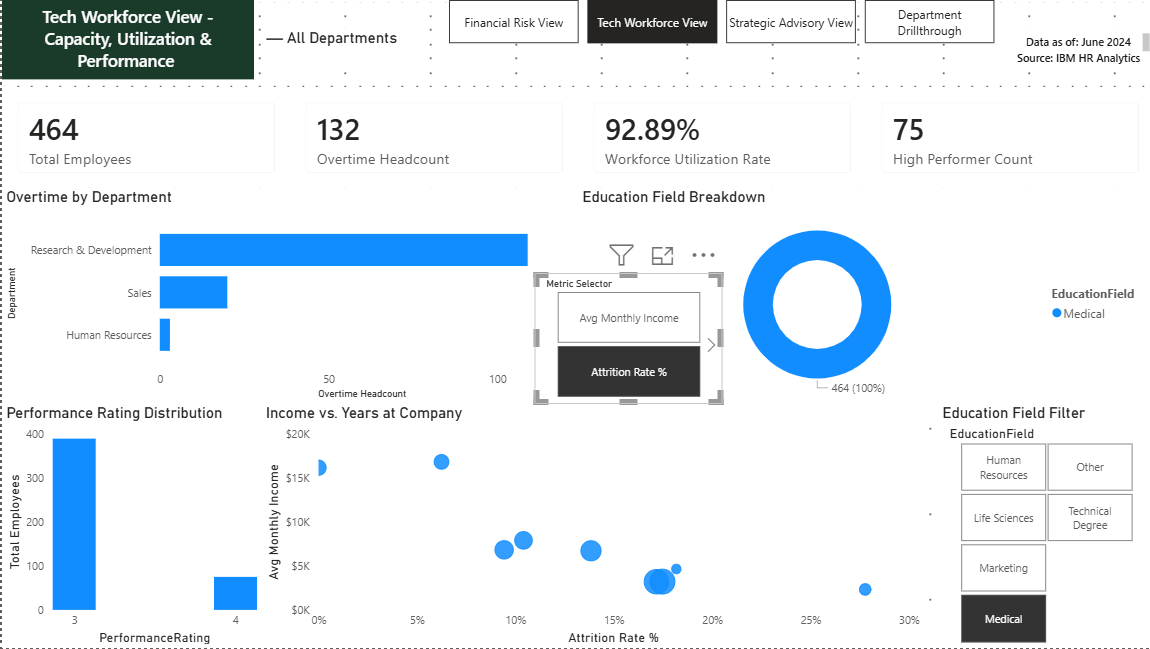

The dashboard page shown, as its layout file describes it:
{"tool":"powerbi","page":{"name":"Tech Workforce View","canvas":[1280,720],"ordinal":1},"visuals":[{"type":"shape","box":[0,0,280,88],"z":0},{"type":"textbox","box":[0,0,280,88],"z":1000},{"type":"cardVisual","fields":{"Data":["_Measures.Total Employees"]},"box":[0,96,320,112],"z":2000},{"type":"cardVisual","fields":{"Data":["_Measures.Overtime Headcount"]},"box":[320,96,320,112],"z":3000},{"type":"cardVisual","fields":{"Data":["_Measures.Workforce Utilization Rate"]},"box":[640,96,320,112],"z":4000},{"type":"cardVisual","fields":{"Data":["_Measures.High Performer Count"]},"box":[960,96,320,112],"z":5000},{"type":"barChart","title":"Overtime by Department","fields":{"Category":["DimDepartment.Department"],"Y":["_Measures.Overtime Headcount"]},"box":[0,208,640,240],"z":6000},{"type":"donutChart","title":"Education Field Breakdown","fields":{"Category":["DimEducationField.EducationField"],"Y":["_Measures.Total Employees"]},"box":[640,208,640,240],"z":7000},{"type":"clusteredColumnChart","title":"Performance Rating Distribution","fields":{"Y":["_Measures.Total Employees"],"Category":["FactEmployeeMetrics.PerformanceRating"]},"box":[0,448,288,272],"z":8000},{"type":"scatterChart","title":"Income vs. Years at Company","fields":{"X":["_Measures.Satisfaction Index"],"Y":["_Measures.Avg Monthly Income"],"Size":["_Measures.Total Employees"],"Category":["DimJobRole.JobRole"]},"box":[288,448,736,272],"z":9000},{"type":"slicer","title":"Education Field Filter","fields":{"Values":["DimEducationField.EducationField"]},"box":[1040,448,240,272],"z":10000},{"type":"textbox","box":[1120,32,160,48],"z":11000},{"type":"textbox","box":[288,32,160,48],"z":12000},{"type":"pageNavigator","box":[496,0,608,48],"z":13000},{"type":"slicer","fields":{"Values":["Metric Selector .Metric Selector "]},"box":[592,304,208,144],"z":14001}]}

Visuals, with their boxes in screenshot pixels (x1, y1, x2, y2), scaled from the page's 1280x720 canvas onto the 1150x649 screenshot:
shape: (left=0, top=0, right=252, bottom=79)
textbox: (left=0, top=0, right=252, bottom=79)
cardVisual - _Measures.Total Employees: (left=0, top=87, right=288, bottom=187)
cardVisual - _Measures.Overtime Headcount: (left=288, top=87, right=575, bottom=187)
cardVisual - _Measures.Workforce Utilization Rate: (left=575, top=87, right=862, bottom=187)
cardVisual - _Measures.High Performer Count: (left=862, top=87, right=1149, bottom=187)
"Overtime by Department" barChart: (left=0, top=187, right=575, bottom=404)
"Education Field Breakdown" donutChart: (left=575, top=187, right=1149, bottom=404)
"Performance Rating Distribution" clusteredColumnChart: (left=0, top=404, right=259, bottom=648)
"Income vs. Years at Company" scatterChart: (left=259, top=404, right=920, bottom=648)
"Education Field Filter" slicer: (left=934, top=404, right=1149, bottom=648)
textbox: (left=1006, top=29, right=1149, bottom=72)
textbox: (left=259, top=29, right=402, bottom=72)
pageNavigator: (left=446, top=0, right=992, bottom=43)
slicer - Metric Selector .Metric Selector : (left=532, top=274, right=719, bottom=404)
